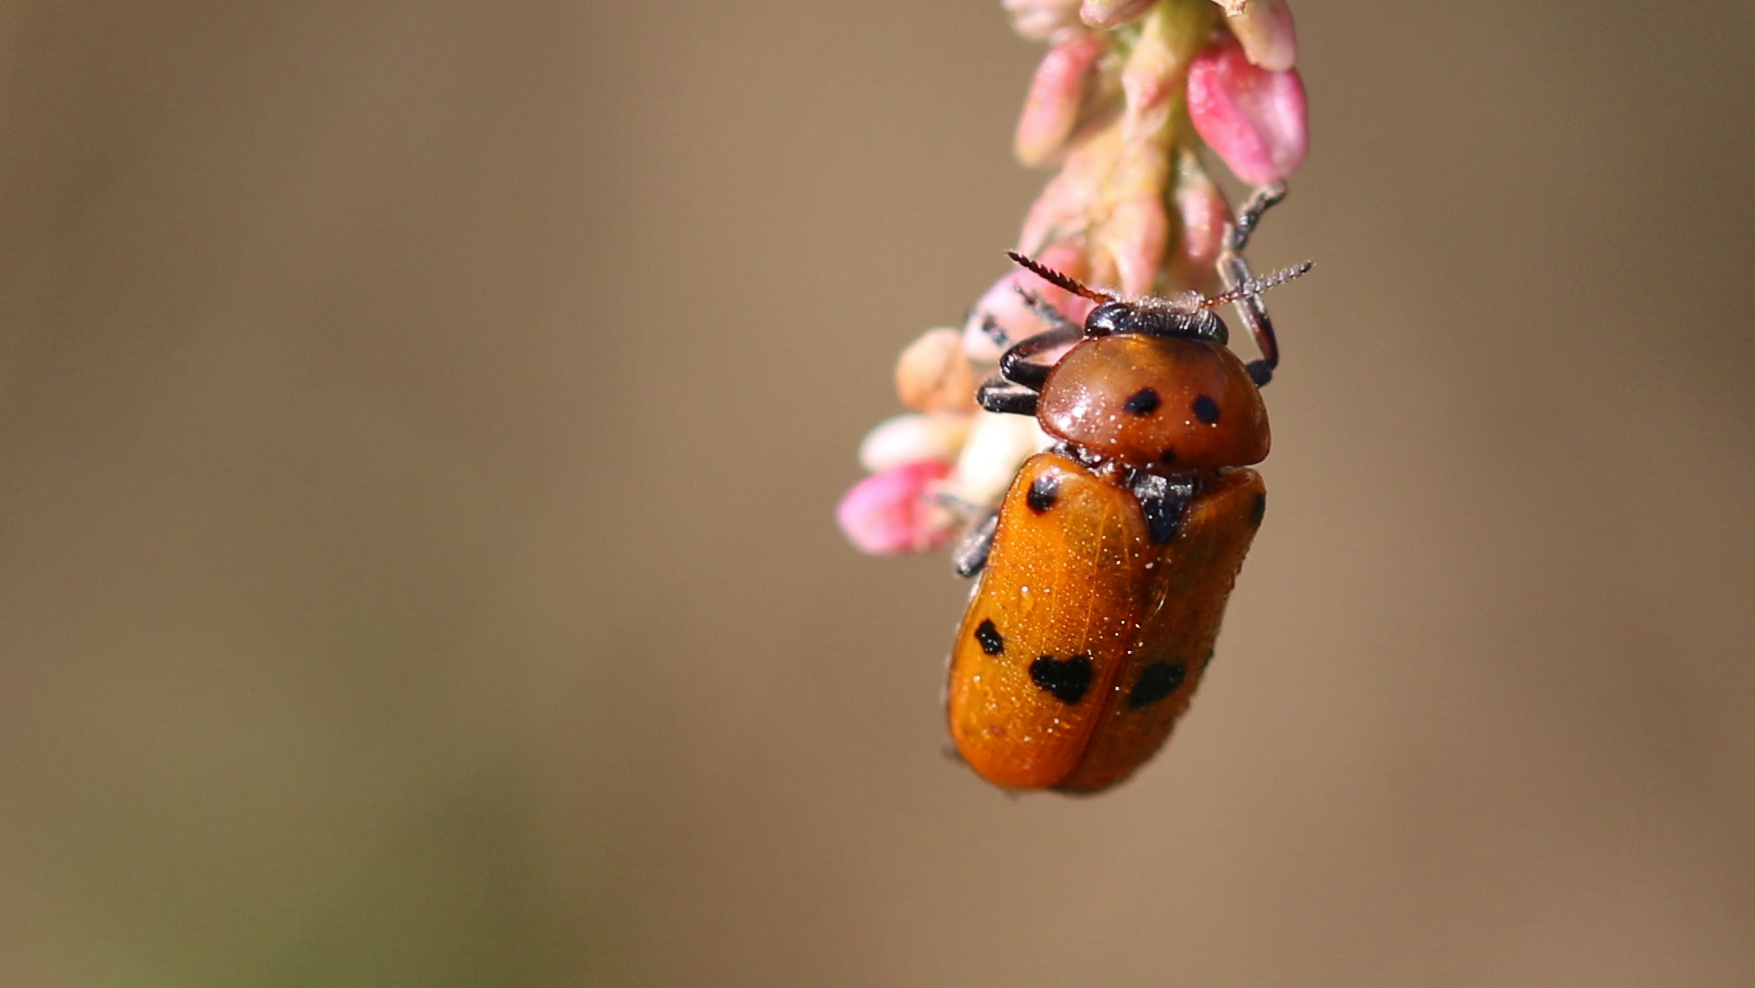Clytra_novempunctata: (915, 239, 1321, 812)
